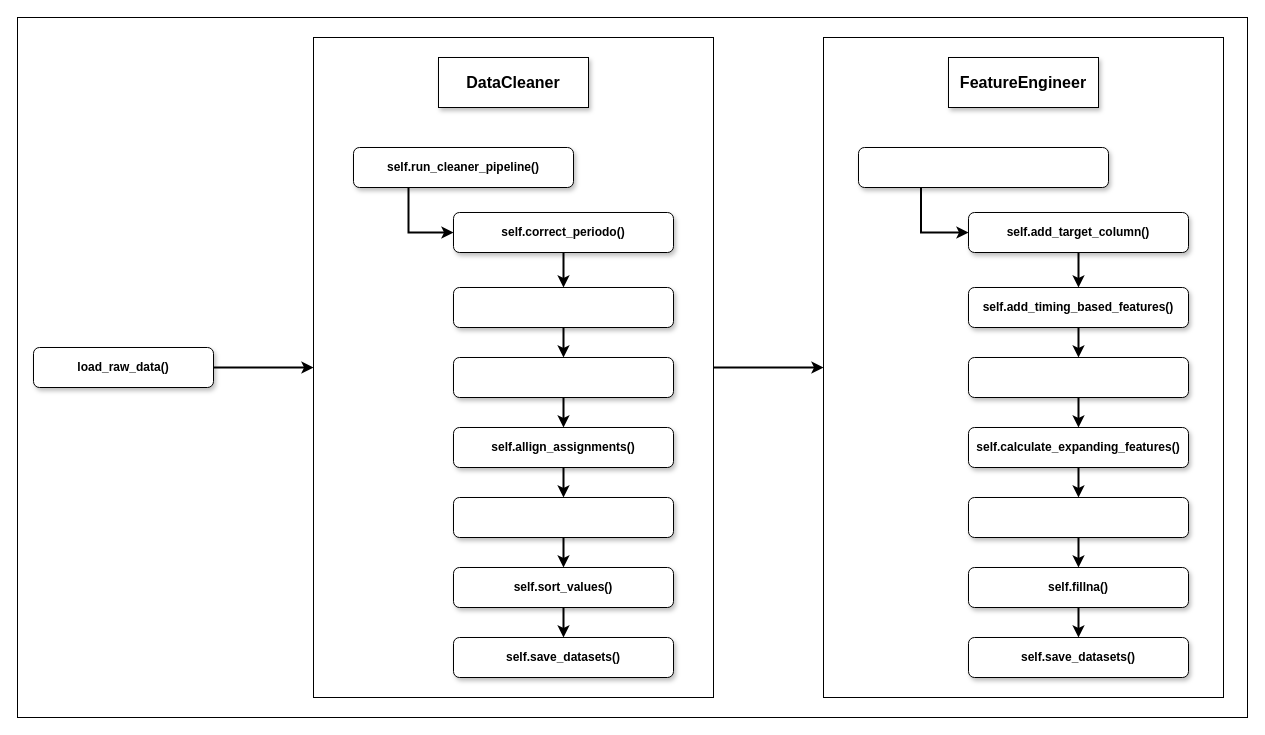
The diagram is 1265 pixels wide and 735 high, and some of its shapes have lost their labels. Here are the shapes that lost their labels. From the top down, the centre of each, then its label:
At pixel 984 168: "self.run_feature_engineering_pipeline()".
At pixel 564 308: "self.format_datetime_columns()".
At pixel 564 378: "self.fill_null_test_and_ass()".
At pixel 1079 378: "self.prepare_intermediate_features()".
At pixel 564 518: "self.clean_duplicates()".
At pixel 1079 518: "self.remove_unuseful_obs()".
